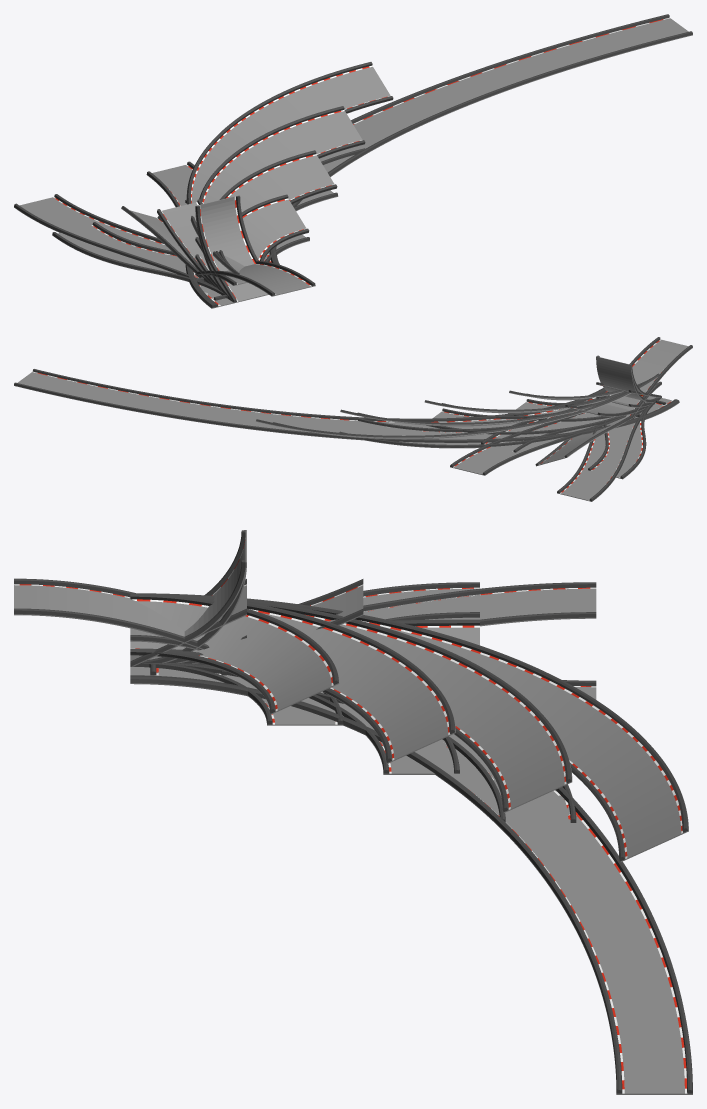
File: road.glb
3 views of the same model, one above another, from view 1: azimuth 30°, elevation 25°; view 2: azimuth 150°, elevation 25°; view 3: azimuth 270°, elevation 25° (orthographic). The views are drawn at different scales.
Parts seen in each view (by area): view 1: TurnLong3, TurnLong3Tilted, TurnLong2Tilted, IntersectionYLong, TurnLongTilted, SlopeToVertical, IntersectionY, TurnShortTilted, SlopeDownLong, SlopeUpLong, ToTilted, Slope; view 2: TurnLong3, IntersectionYLong, IntersectionY, SlopeDownLong, TurnLong2, TurnLong3Tilted, SlopeUpVertical, TurnLong2Tilted, ToTilted, TurnLong, TurnSLong, TurnLongTilted (+3 smaller); view 3: TurnLong3, TurnLong3Tilted, TurnLong2Tilted, TurnLongTilted, TurnShortTilted, IntersectionYLong, SlopeDownLong, IntersectionY, SlopeToVertical, TurnShort, TurnLong, SlopeUpLong (+2 smaller).
Part boxes in pixels (left/top/right/bottom): TurnLong3: left=185, top=14, right=692, bottom=308; TurnLong3Tilted: left=186, top=62, right=393, bottom=273; TurnLong2Tilted: left=199, top=106, right=365, bottom=273; IntersectionYLong: left=14, top=161, right=217, bottom=288; TurnLongTilted: left=216, top=150, right=337, bottom=267; SlopeToVertical: left=195, top=196, right=266, bottom=301; IntersectionY: left=52, top=199, right=268, bottom=302; TurnShortTilted: left=219, top=194, right=309, bottom=274; SlopeDownLong: left=195, top=261, right=315, bottom=296; SlopeUpLong: left=157, top=199, right=216, bottom=287; ToTilted: left=121, top=206, right=211, bottom=284; Slope: left=195, top=237, right=267, bottom=302; TurnLong3: left=14, top=369, right=679, bottom=442; IntersectionYLong: left=450, top=405, right=649, bottom=501; IntersectionY: left=481, top=398, right=660, bottom=479; SlopeDownLong: left=605, top=337, right=692, bottom=419; TurnLong2: left=339, top=415, right=623, bottom=448; TurnLong3Tilted: left=256, top=374, right=659, bottom=439; SlopeUpVertical: left=596, top=355, right=658, bottom=402; TurnLong2Tilted: left=340, top=379, right=650, bottom=426; ToTilted: left=535, top=409, right=644, bottom=466; TurnLong: left=426, top=408, right=616, bottom=434; TurnSLong: left=450, top=412, right=626, bottom=475; TurnLongTilted: left=424, top=379, right=650, bottom=413; TurnLong3: left=130, top=667, right=692, bottom=1094; TurnLong3Tilted: left=151, top=593, right=688, bottom=862; TurnLong2Tilted: left=130, top=593, right=572, bottom=812; TurnLongTilted: left=130, top=593, right=455, bottom=763; TurnShortTilted: left=130, top=593, right=339, bottom=714; IntersectionYLong: left=178, top=582, right=596, bottom=699; SlopeDownLong: left=14, top=578, right=209, bottom=649; IntersectionY: left=178, top=582, right=479, bottom=703; SlopeToVertical: left=130, top=530, right=246, bottom=665; TurnShort: left=131, top=663, right=343, bottom=725; TurnLong: left=164, top=663, right=459, bottom=774; SlopeUpLong: left=182, top=579, right=363, bottom=663.
Bounding box in the file's own units: 207 × 22.94 × 117.
